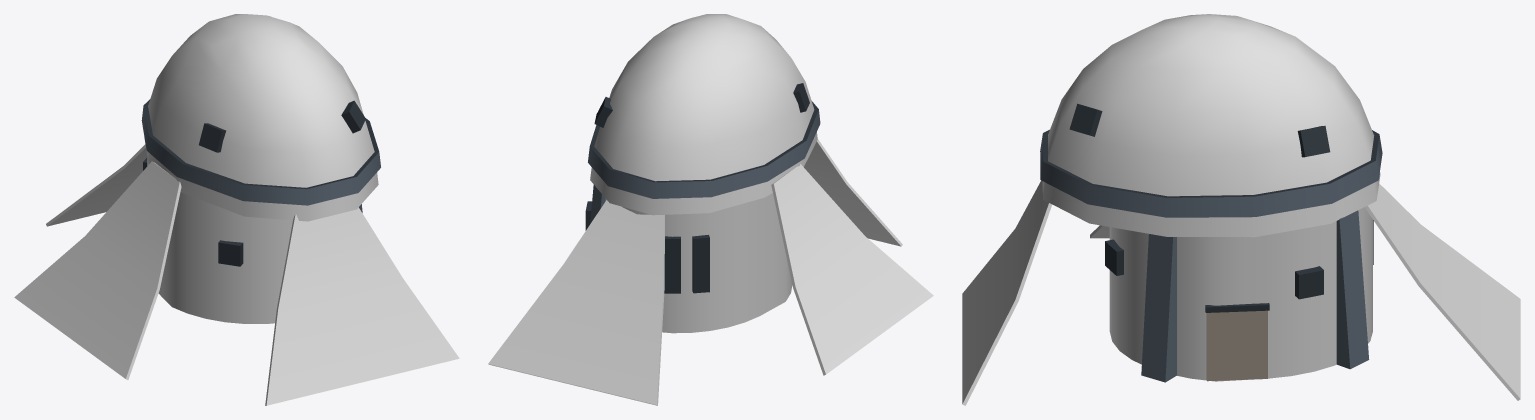
Rendered from Travel house big.fbx.
3 views of the same model, side by side, from view 1: azimuth 30°, elevation 25°; view 2: azimuth 150°, elevation 25°; view 3: azimuth 270°, elevation 25° (orthographic). The views are drawn at different scales.
Parts seen in each view (by area): view 1: PM3D_Plane3D193_016; view 2: PM3D_Plane3D193_016; view 3: PM3D_Plane3D193_016.
Part boxes in pixels (x1,y1,x2,y2): PM3D_Plane3D193_016: (14,14,459,405); PM3D_Plane3D193_016: (488,14,933,405); PM3D_Plane3D193_016: (962,14,1520,405).
Bounding box in the file's own units: 3631 × 3488 × 5341.
